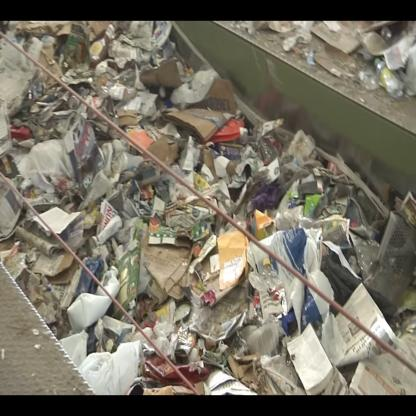Glass Bottle: (258, 257, 286, 322)
